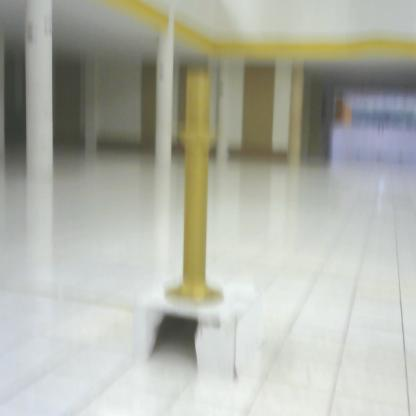pole: (157, 64, 234, 314)
